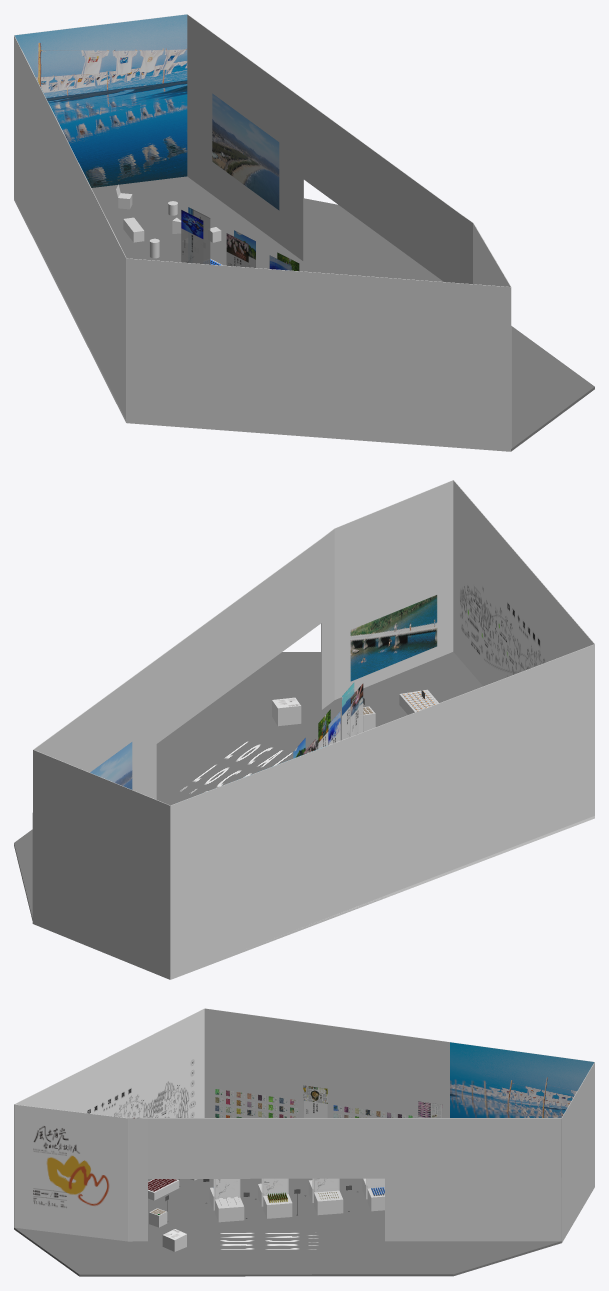
The model's file is taiwan4-512.glb.
3 renders of one model, top to bottom at view 1: azimuth 30°, elevation 25°; view 2: azimuth 150°, elevation 25°; view 3: azimuth 270°, elevation 25°, orthographic. The views are drawn at different scales.
Parts seen in each view (by area): view 1: 立方体.002, Cube.010, 平面, Cube.012, ポスター10, 立方体.036, タペストリー6.007, タペストリー6.003; view 2: Cube.010, Cube.012, 平面.005, 平面.007, 平面.004, 立方体.002, ポスター10, Cube.013; view 3: Cube.010, Cube.012, 平面.006, 平面.005, 平面, 立方体.002, 平面.004, 平面.002, タペストリー2, タペストリー6.001, タペストリー6.006, タペストリー3.
Boxes of the visible parts, x1=… form: 立方体.002: x1=126, y1=258, x2=510, y2=451; Cube.010: x1=14, y1=14, x2=511, y2=448; 平面: x1=14, y1=14, x2=187, y2=187; Cube.012: x1=91, y1=176, x2=594, y2=451; ポスター10: x1=212, y1=93, x2=279, y2=210; 立方体.036: x1=116, y1=184, x2=221, y2=258; タペストリー6.007: x1=181, y1=210, x2=203, y2=263; タペストリー6.003: x1=226, y1=233, x2=248, y2=267; Cube.010: x1=32, y1=480, x2=594, y2=979; Cube.012: x1=14, y1=652, x2=482, y2=920; 平面.005: x1=453, y1=480, x2=593, y2=686; 平面.007: x1=350, y1=595, x2=437, y2=681; 平面.004: x1=176, y1=739, x2=293, y2=796; 立方体.002: x1=272, y1=480, x2=594, y2=731; ポスター10: x1=90, y1=742, x2=132, y2=789; Cube.013: x1=170, y1=816, x2=594, y2=979; Cube.010: x1=16, y1=1008, x2=594, y2=1242; Cube.012: x1=14, y1=1178, x2=561, y2=1276; 平面.006: x1=14, y1=1104, x2=127, y2=1241; 平面.005: x1=14, y1=1009, x2=204, y2=1118; 平面: x1=450, y1=1042, x2=594, y2=1117; 立方体.002: x1=14, y1=1009, x2=384, y2=1251; 平面.004: x1=217, y1=1232, x2=320, y2=1250; 平面.002: x1=215, y1=1089, x2=416, y2=1117; タペストリー2: x1=303, y1=1085, x2=327, y2=1117; タペストリー6.001: x1=215, y1=1179, x2=240, y2=1199; タペストリー6.006: x1=263, y1=1178, x2=288, y2=1195; タペストリー3: x1=418, y1=1101, x2=442, y2=1117.
Bounding box in the file's own units: 15.66 × 6.4 × 26.87.
75 materials, 54 textured.
